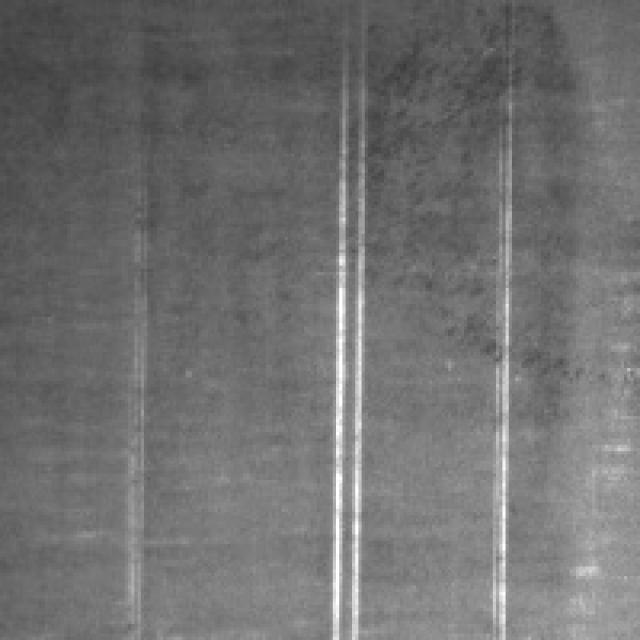scratches: (320, 29, 368, 634), (480, 48, 515, 634), (115, 179, 147, 627)
